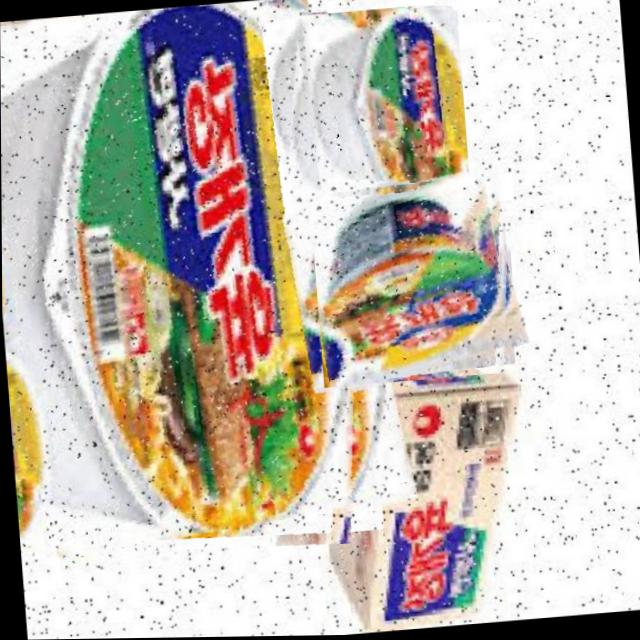Miscellaneous: (0, 0, 400, 570), (308, 172, 522, 388), (292, 3, 470, 230)
